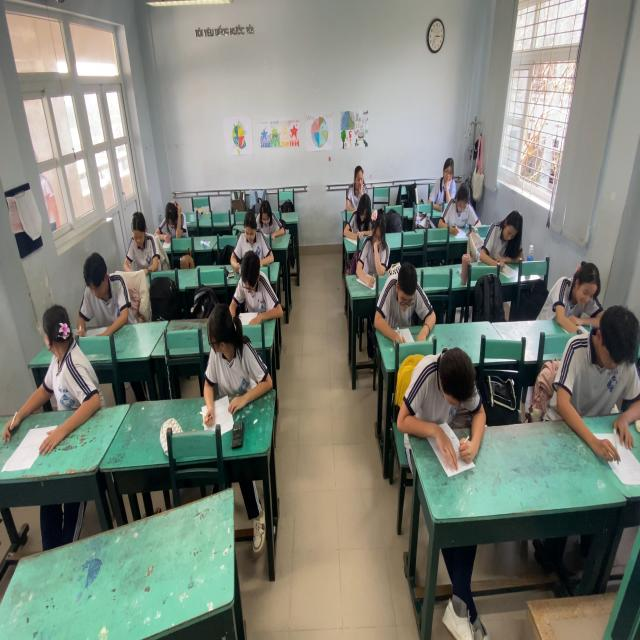cheating: (30, 305, 104, 423), (196, 295, 270, 409)
not_cheating: (396, 337, 490, 460), (569, 308, 640, 419), (78, 247, 130, 336), (381, 266, 435, 344), (552, 260, 610, 319), (231, 250, 280, 315), (365, 216, 404, 284), (232, 211, 276, 267), (480, 208, 524, 264), (124, 212, 160, 274), (444, 184, 488, 229), (155, 194, 190, 247), (252, 198, 291, 239), (433, 156, 458, 211), (350, 188, 370, 232), (349, 160, 365, 195)
